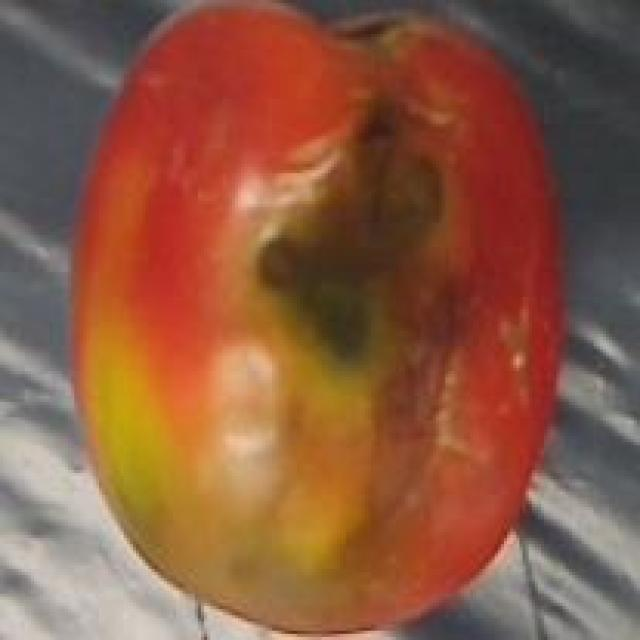overripe tomato: (62, 0, 584, 640)
